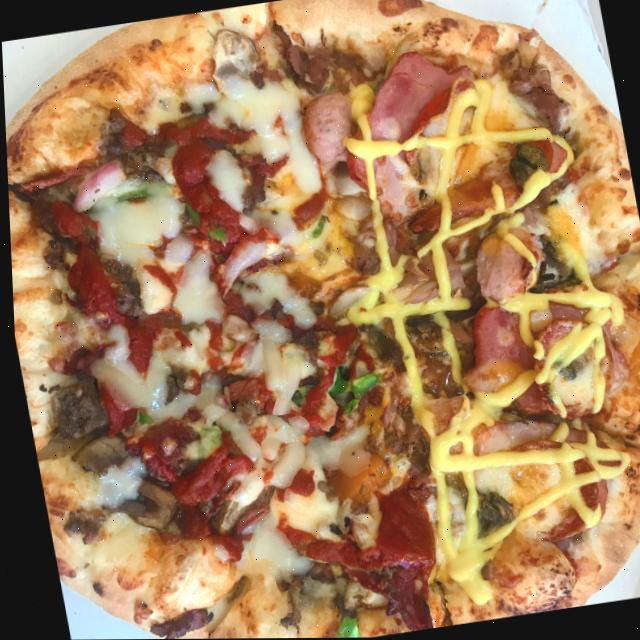mushrooms: (204, 24, 264, 106), (66, 432, 137, 482), (124, 479, 175, 532), (505, 138, 550, 198)
pizza: (0, 0, 640, 640)
